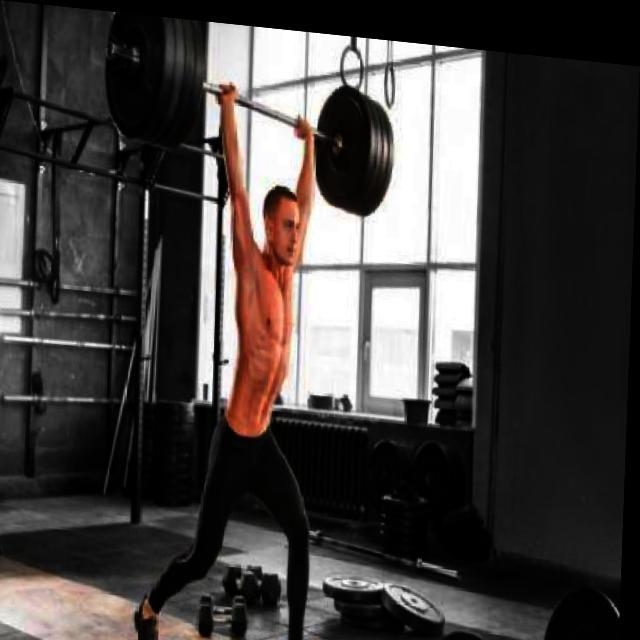barbell: (102, 10, 174, 149)
